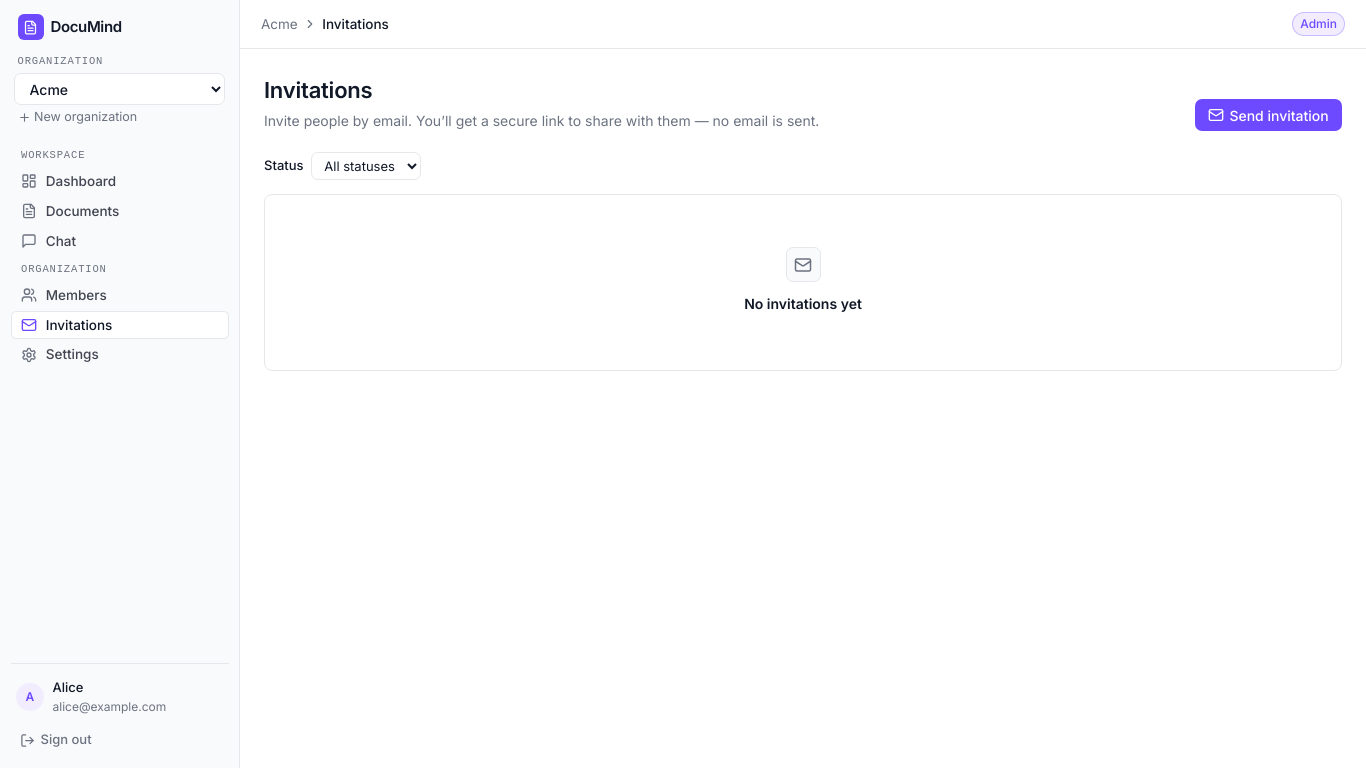
Invitations panel (admin) › prevents duplicate submissions and shows backend errors (e.g. pending invitation exists)
Expected: the heading "Invitations" is shown, [264,77,372,103]
Click the button "Send invitation" at coordinates (1268, 115), box [1195,99,1342,131]
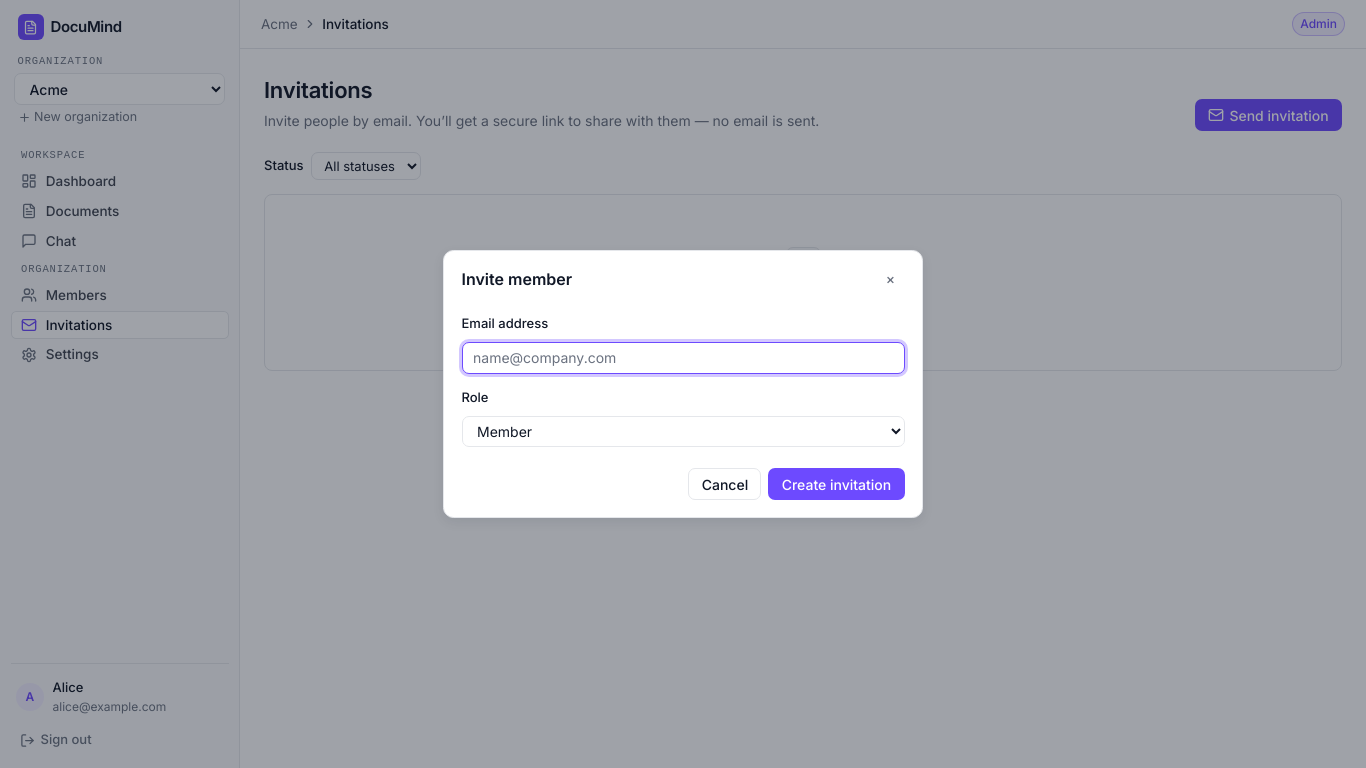
Type "carol@example.com" into the field labelled "Email address" at coordinates (683, 358), box [462,342,904,374]
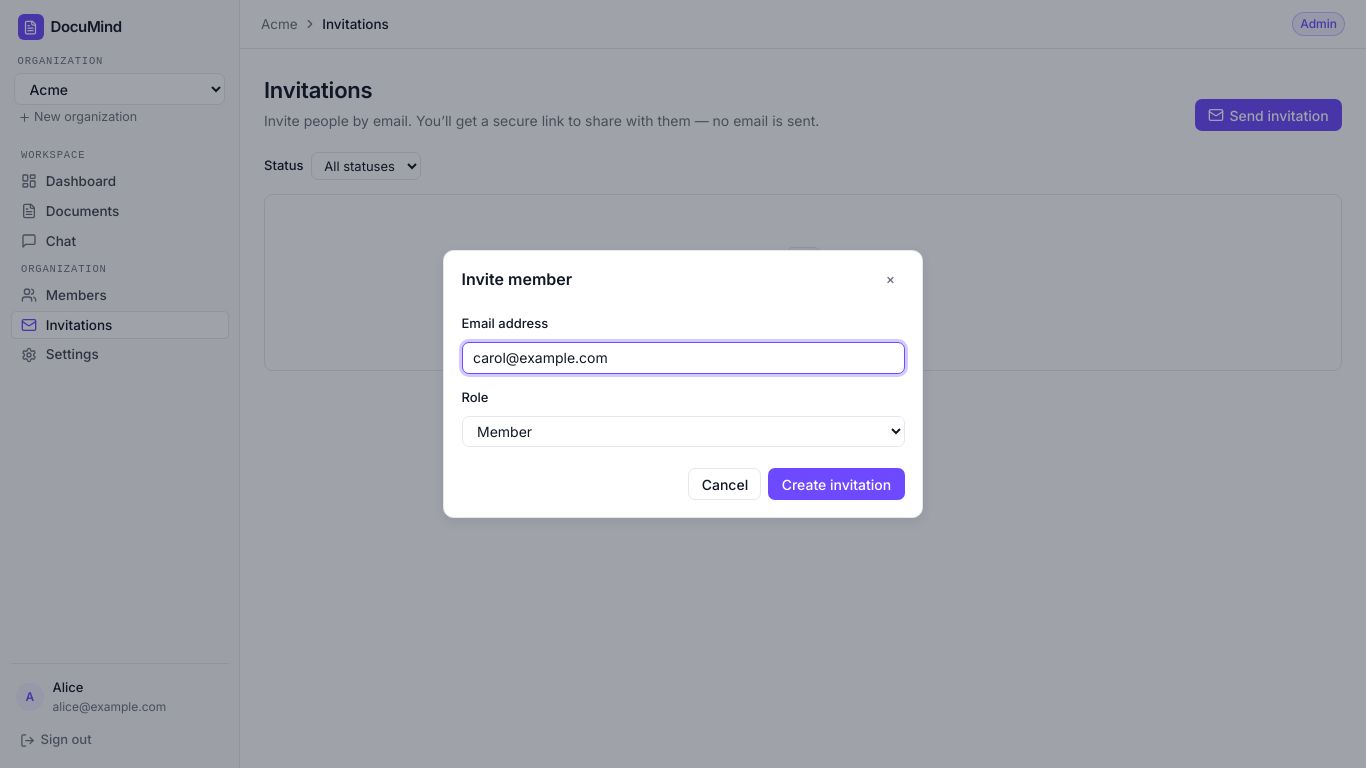
Click the button "Create invitation" at coordinates (836, 484), box [768,468,904,500]
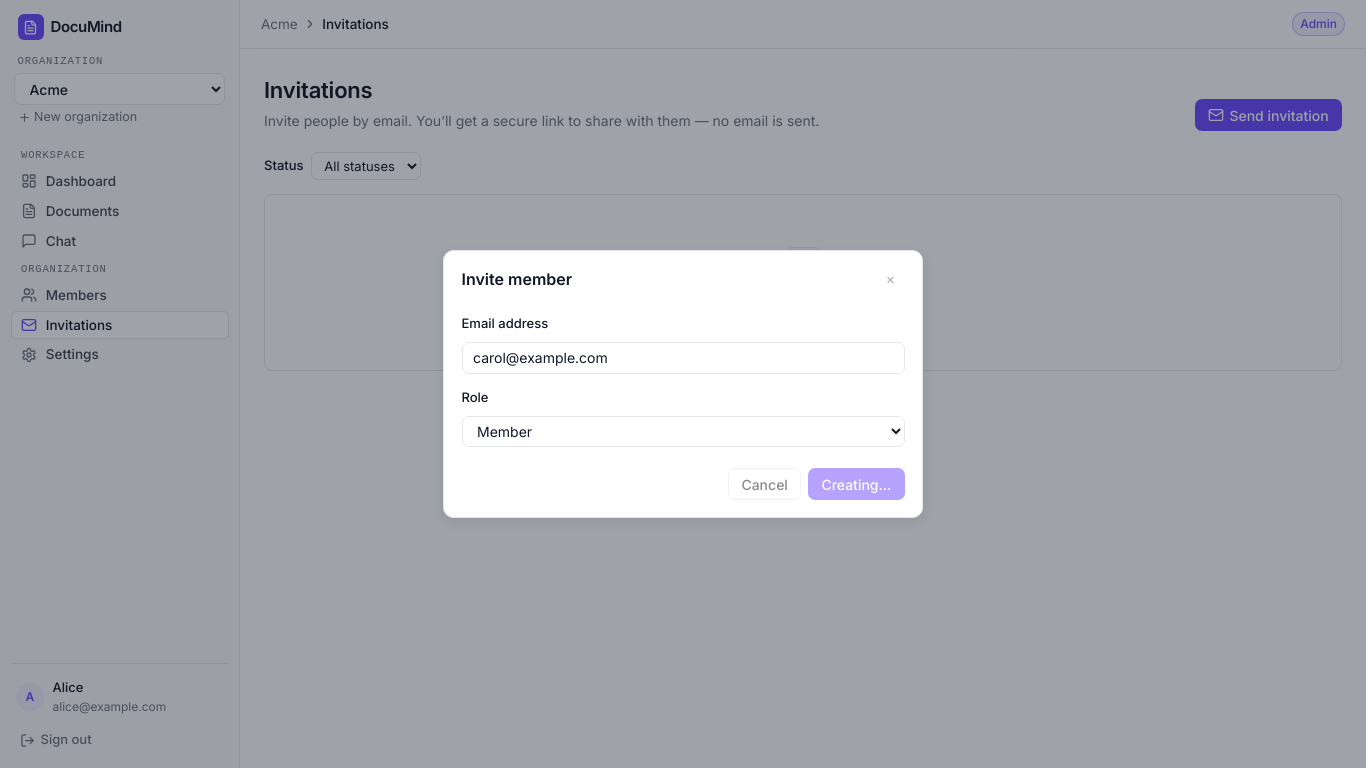
Expected: the button "Creating…" is disabled
Click the button "Creating…" at coordinates (856, 484), box [808,468,904,500]
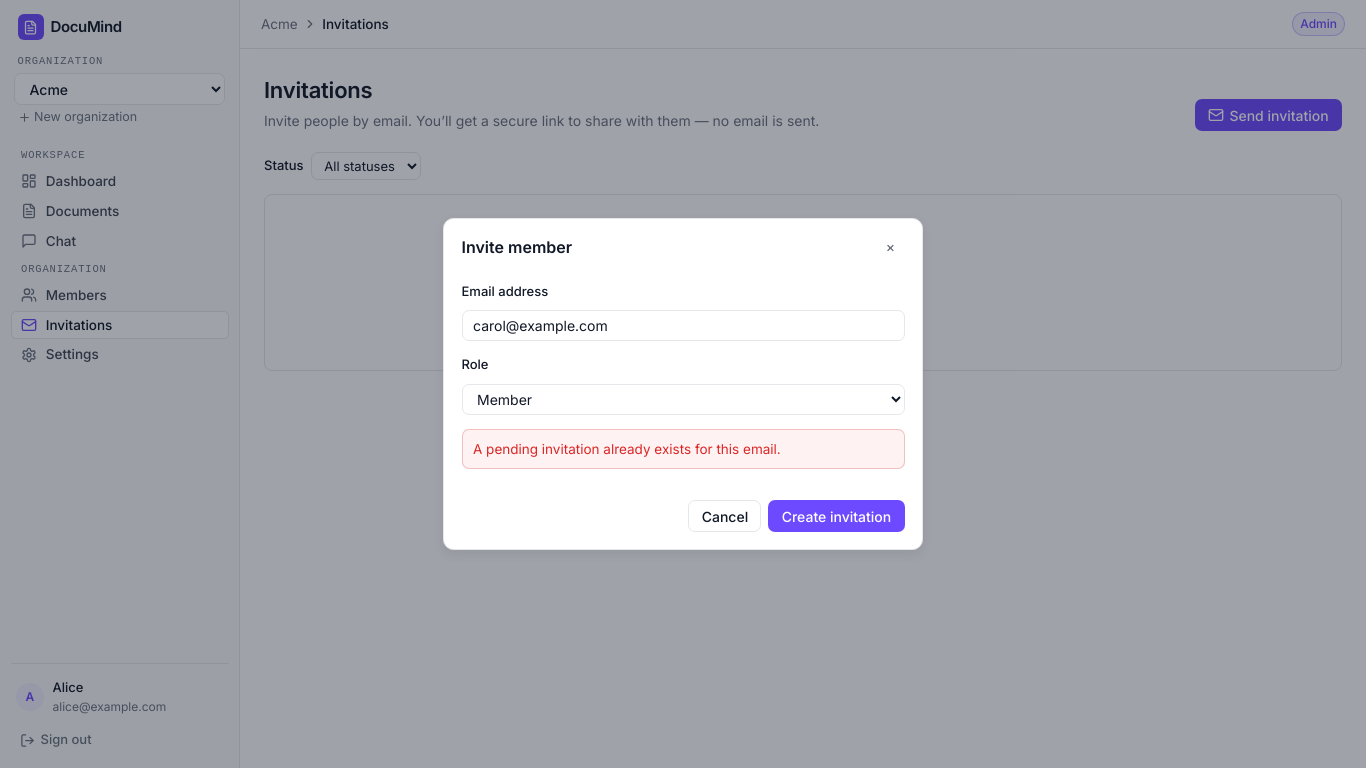
Expected: the message reads "A pending invitation already exists for this email.", [473,441,781,457]
